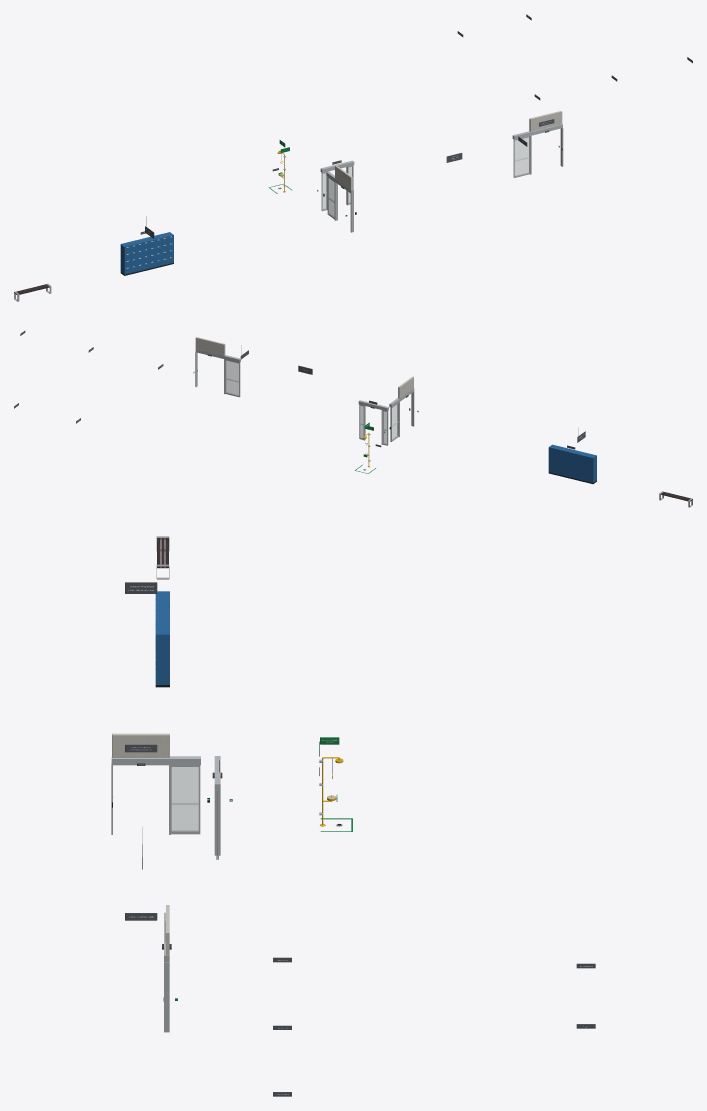
Rendered from 05_n1_circulaciones.glb.
3 renders of one model, top to bottom at view 1: azimuth 30°, elevation 25°; view 2: azimuth 150°, elevation 25°; view 3: azimuth 270°, elevation 25°, orthographic. The views are drawn at different scales.
Visible parts, largest first — view 1: puerta automática · pasillo de urgencias, puerta automática · pasillo de vestidores, puerta automática · pasillo central; view 2: puerta automática · pasillo de urgencias, puerta automática · pasillo de vestidores, puerta automática · pasillo central; view 3: puerta automática · pasillo de vestidores, lockers_visitantes.
Boxes of the visible parts, bbox=[...] form: puerta automática · pasillo de urgencias: bbox=[512, 111, 563, 177]; puerta automática · pasillo de vestidores: bbox=[326, 165, 353, 232]; puerta automática · pasillo central: bbox=[320, 160, 354, 211]; puerta automática · pasillo de urgencias: bbox=[195, 337, 240, 397]; puerta automática · pasillo de vestidores: bbox=[389, 376, 414, 441]; puerta automática · pasillo central: bbox=[358, 400, 388, 445]; puerta automática · pasillo de vestidores: bbox=[111, 733, 200, 834]; lockers_visitantes: bbox=[155, 629, 169, 687].
Bounding box in the file's own units: 45.91 × 3.4 × 15.08.
Materials: 23 (3 with a texture image).
